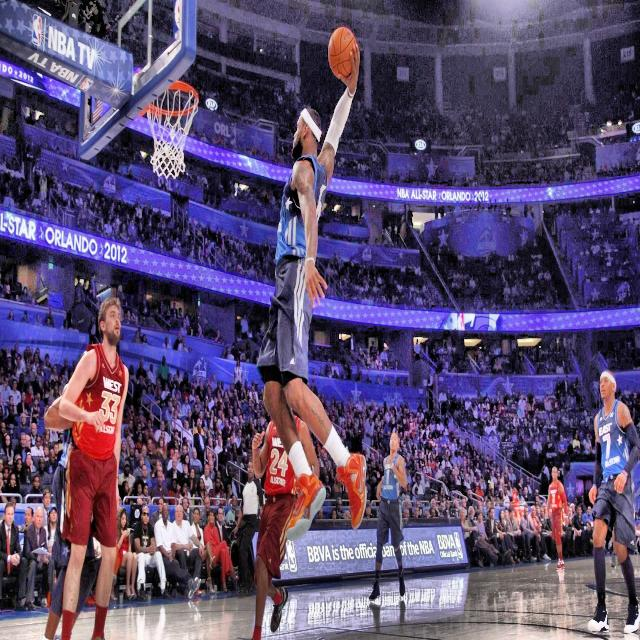board: (328, 26, 353, 77)
rim: (148, 80, 198, 181)
